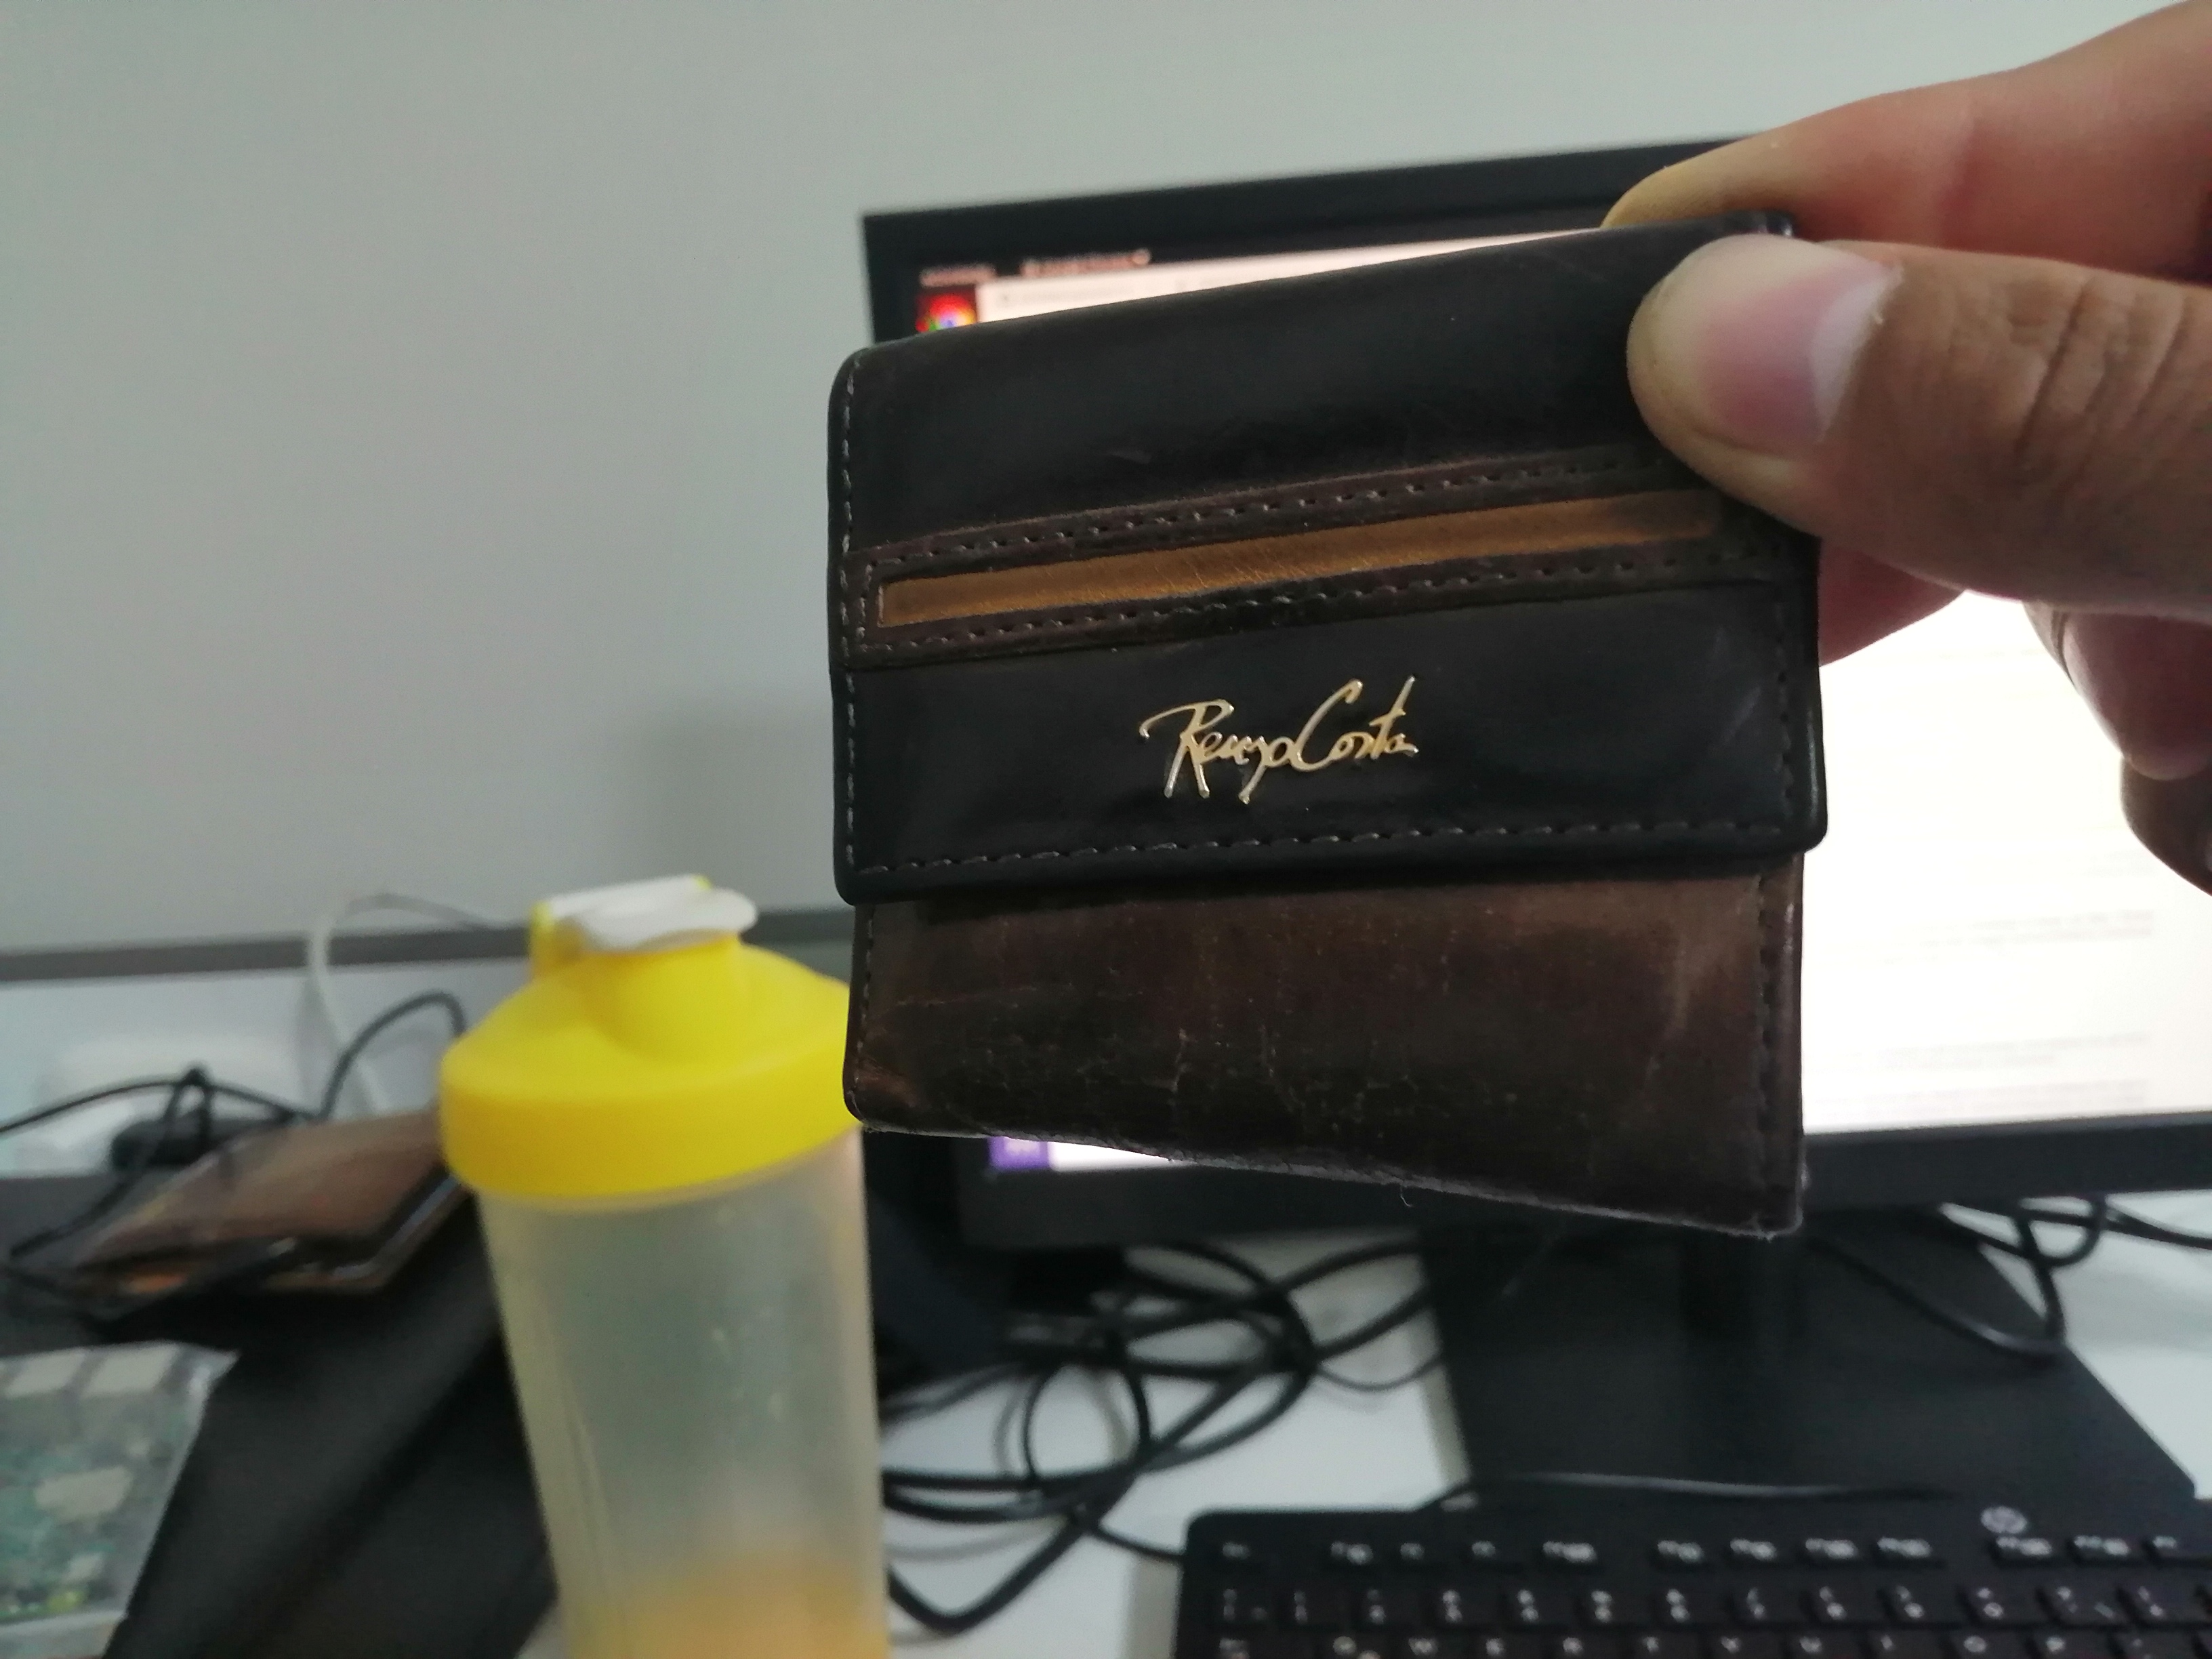monedero: (803, 192, 1834, 1258)
